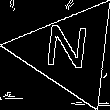N_S: (44, 24, 94, 79)
